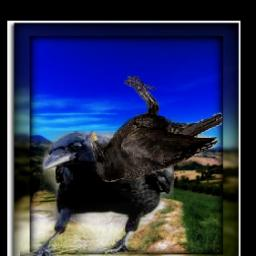Crow: (21, 132, 175, 256), (87, 76, 222, 182)
